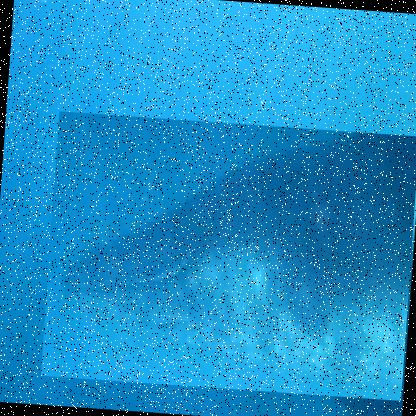blue_whale: (40, 111, 415, 403)
